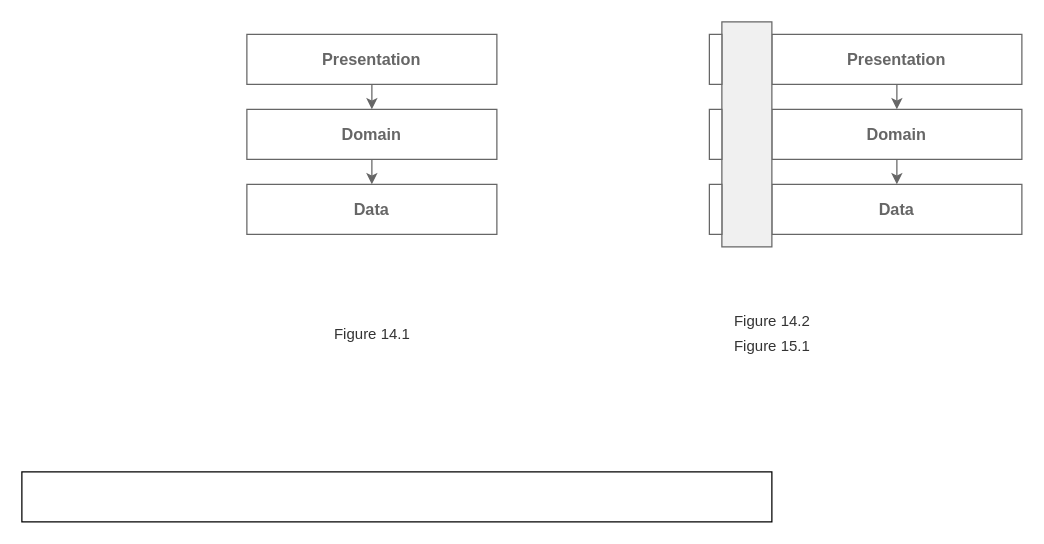
The diagram is 1044 pixels wide and 544 high, and some of its shapes have lost their labels. The shapes that lost their labels are listed below. From the top down, each one's centre as x and y in pixels, then its label:
pixel 746 134: Feature
pixel 396 496: 600 px MAX width
